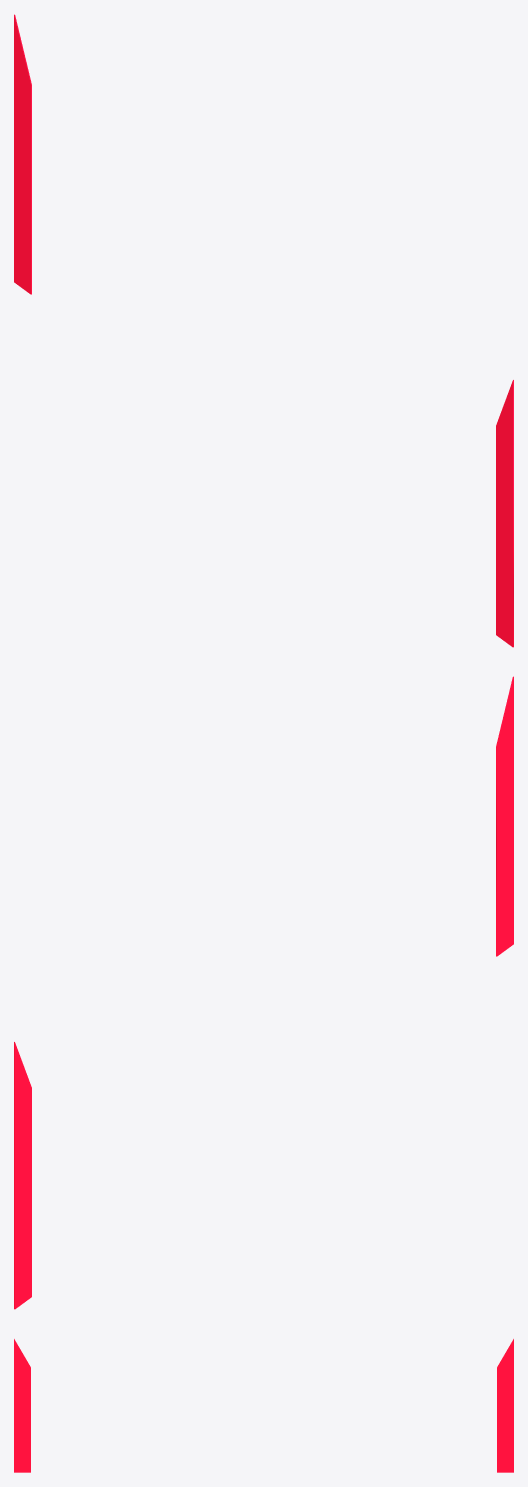
File: bus-brake.dae
The picture shows the model from 3 angles, top to bottom: view 1: azimuth 30°, elevation 25°; view 2: azimuth 150°, elevation 25°; view 3: azimuth 270°, elevation 25°; orthographic projection. The views are drawn at different scales.
Visible parts, largest first — view 1: BusBrakes; view 2: BusBrakes; view 3: BusBrakes.
Part boxes in pixels (bbox=[...]): BusBrakes: bbox=[14, 14, 513, 647]; BusBrakes: bbox=[14, 676, 513, 1309]; BusBrakes: bbox=[14, 1339, 513, 1472].
Bounding box in the file's own units: 0.000922 × 0.7482 × 0.2213.
